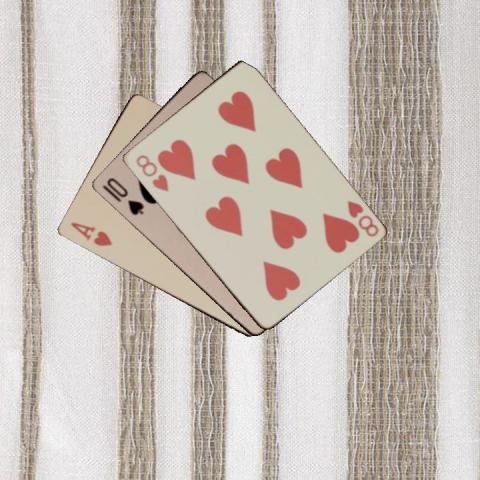10s: (103, 174, 145, 216)
8h: (132, 152, 170, 194), (343, 196, 380, 238)
Ah: (68, 219, 114, 248)
